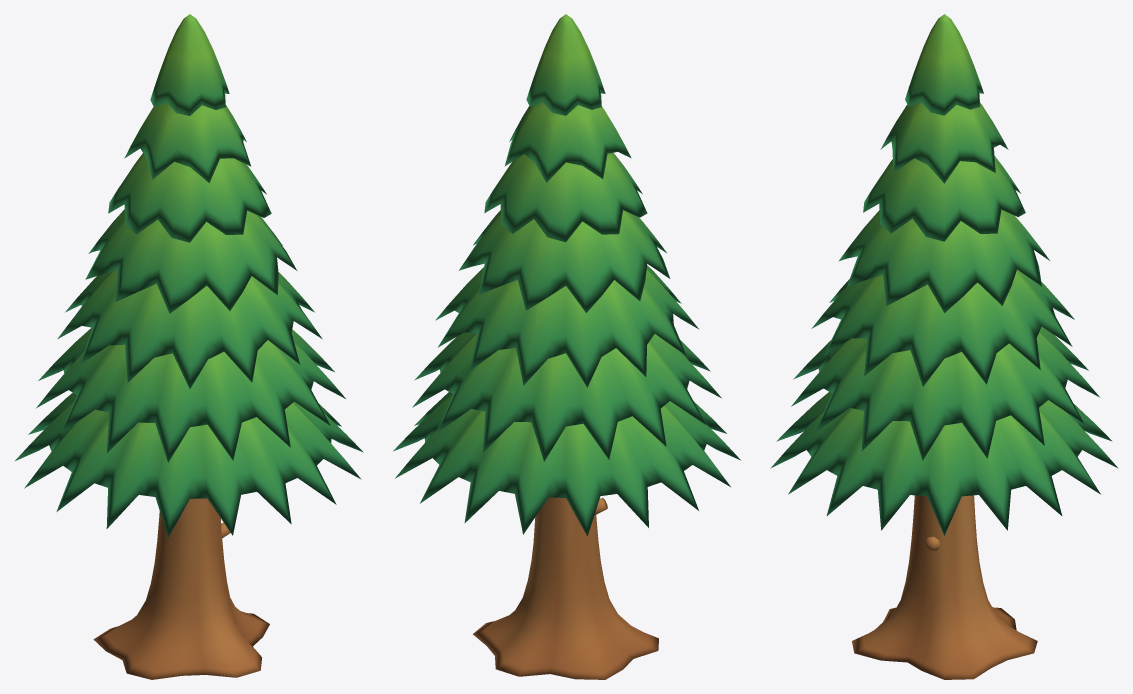
Rendered from tree_pine.glb.
3 views of the same model, side by side, from view 1: azimuth 30°, elevation 25°; view 2: azimuth 150°, elevation 25°; view 3: azimuth 270°, elevation 25° (orthographic).
Parts seen in each view (by area): view 1: tree_pine; view 2: tree_pine; view 3: tree_pine.
Boxes of the visible parts, x1,y1,x2,y2 form: tree_pine: (15,14,363,679); tree_pine: (393,14,740,679); tree_pine: (770,14,1118,679).
Bounding box in the file's own units: 4.52 × 9 × 4.54.
